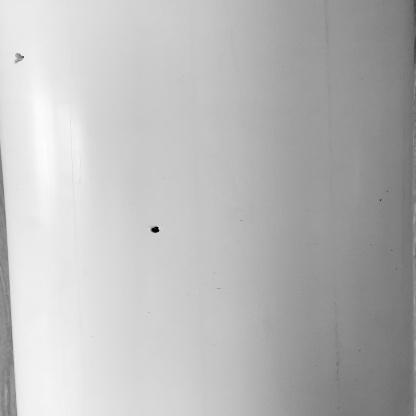kongdong: (6, 47, 46, 69), (147, 220, 167, 235)
